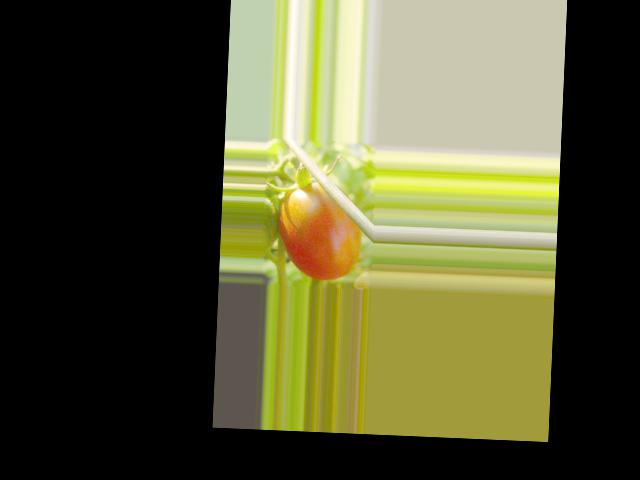tomato: (277, 180, 362, 281)
